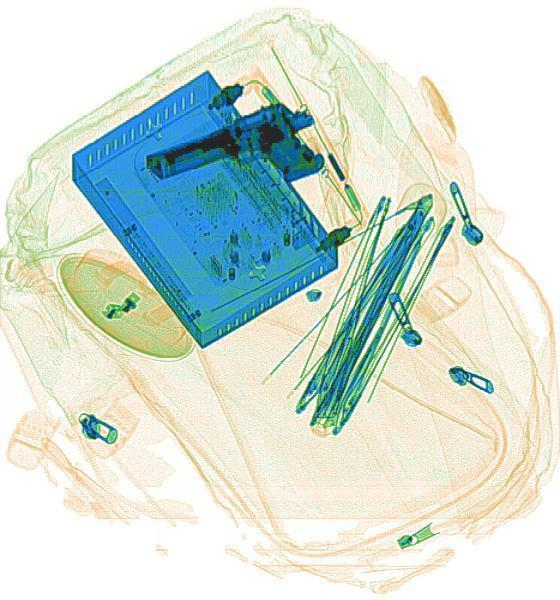Gun: (141, 91, 332, 227)
